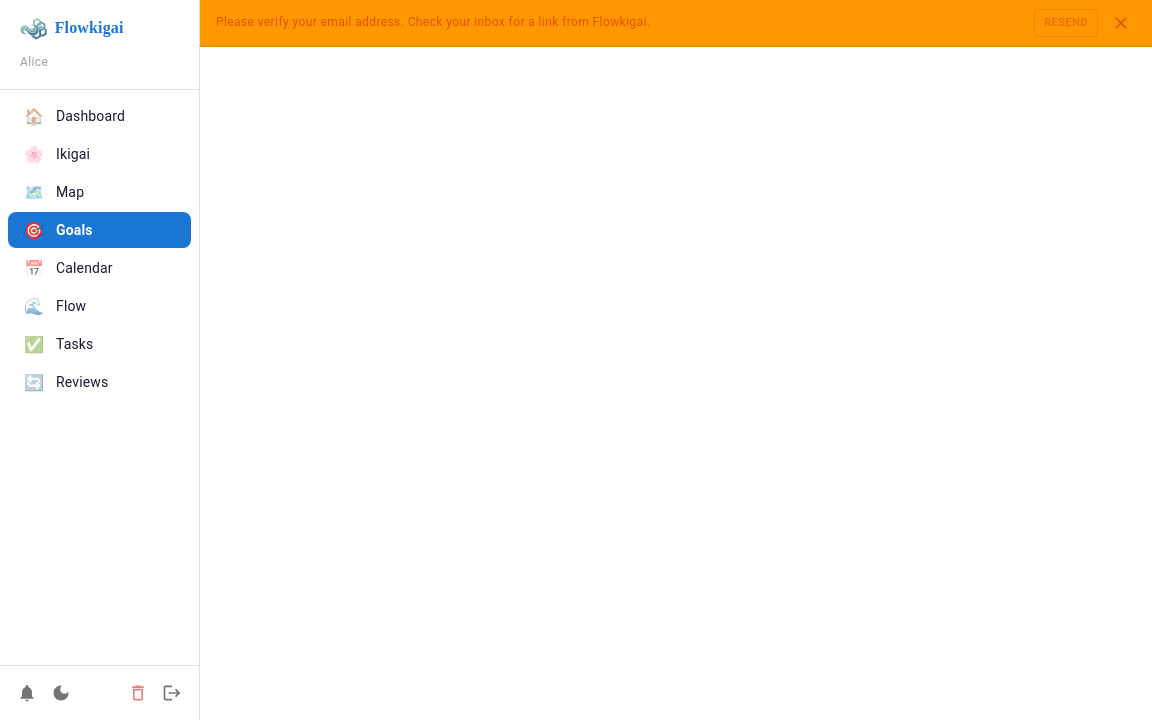
Test: TabNav — unverified email banner › hides banner after clicking dismiss
The width and height of the screenshot is (1152, 720).
Click the button named "dismiss". click: click(1121, 23)
box: [1106, 8, 1136, 38]
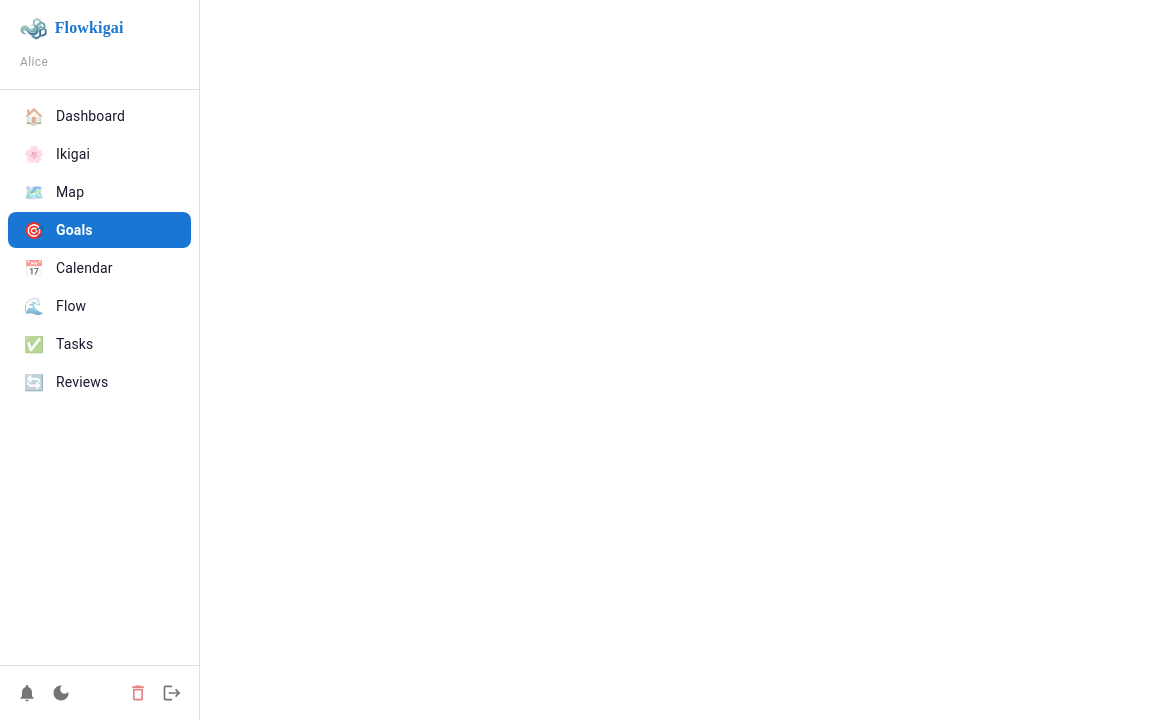
Now the text "verify your email" is gone
